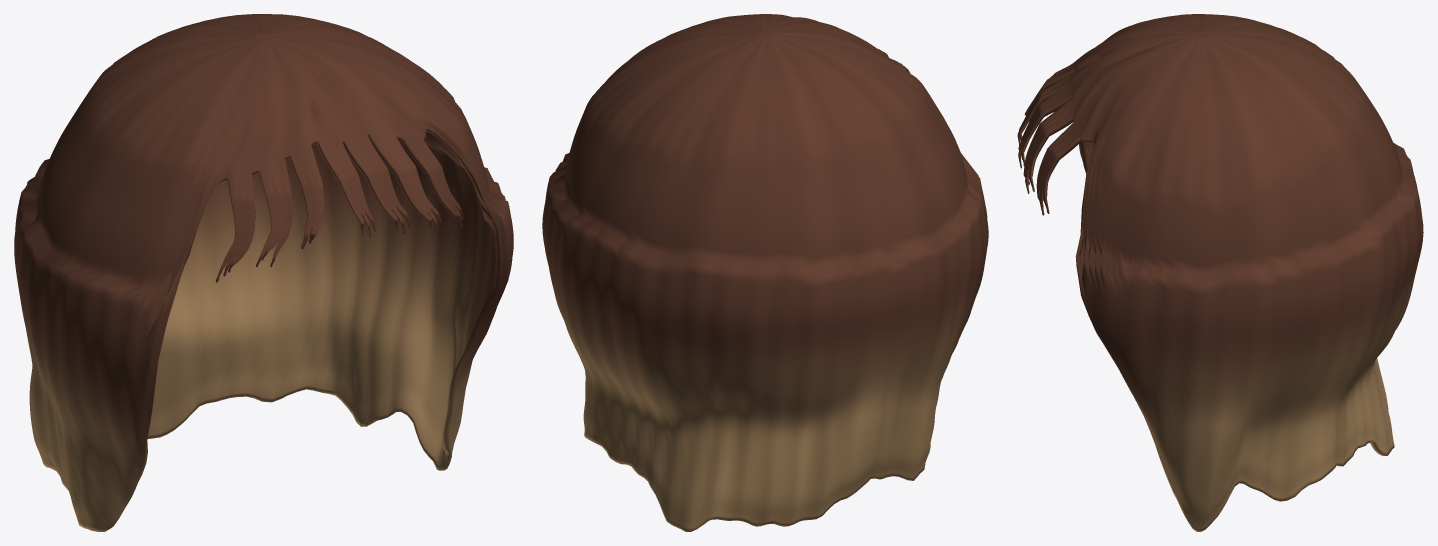
Rendered from side-sweep-beanie-ombre.glb.
3 views of the same model, side by side, from view 1: azimuth 30°, elevation 25°; view 2: azimuth 150°, elevation 25°; view 3: azimuth 270°, elevation 25° (orthographic). The views are drawn at different scales.
Parts seen in each view (by area): view 1: Wispy bangs / continuous crown; view 2: Wispy bangs / continuous crown; view 3: Wispy bangs / continuous crown.
Boxes of the visible parts, <box> form: Wispy bangs / continuous crown: <box>14,14,513,531</box>; Wispy bangs / continuous crown: <box>542,14,988,531</box>; Wispy bangs / continuous crown: <box>1017,14,1423,531</box>.
Bounding box in the file's own units: 0.8388 × 0.8786 × 0.7676.
